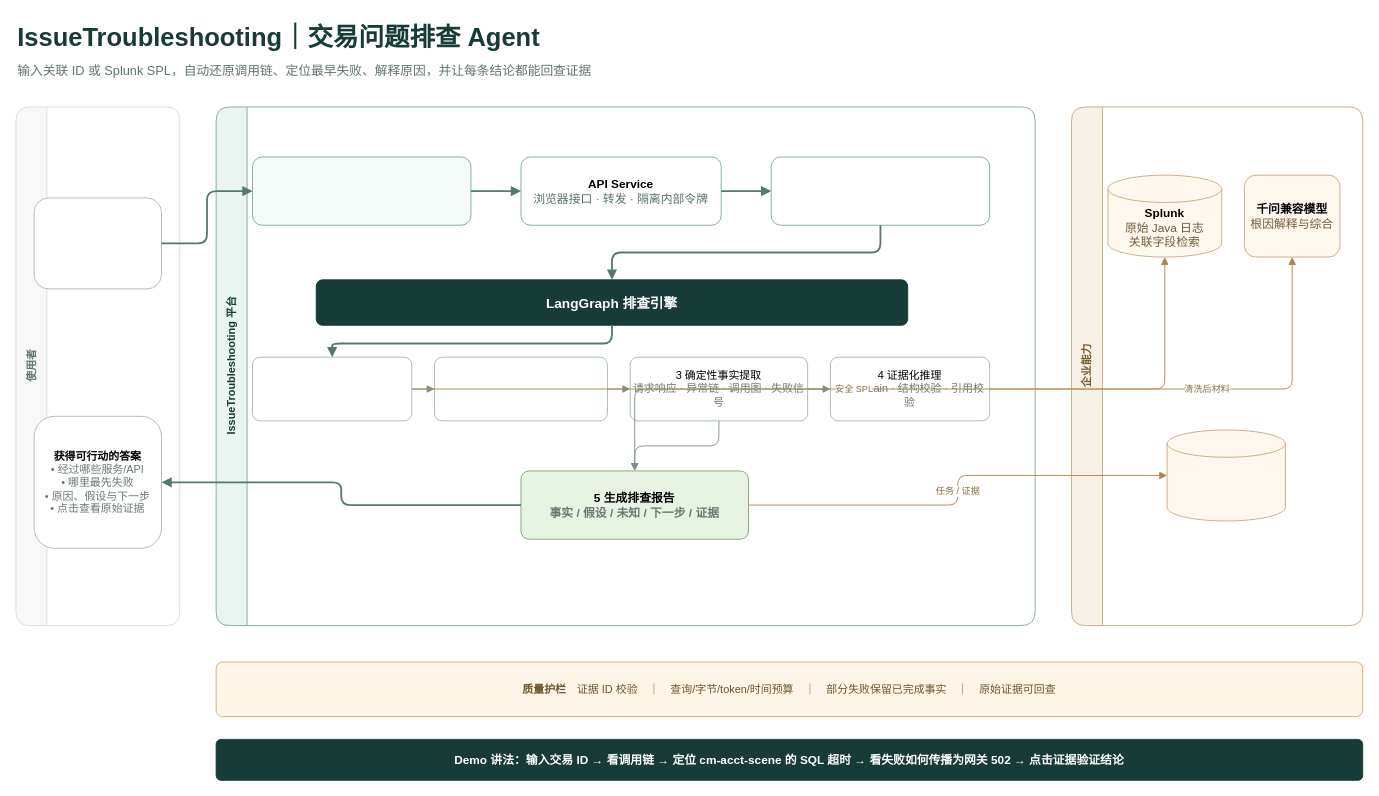
The diagram is 1379 pixels wide and 796 high, and some of its shapes have lost their labels. The centre of each missing label's shape, as x and y in pixels:
"1 查询并采集 按关联 ID / 上下文补查" goes at point (332, 388).
"2 日志标准化 Java 日志 / 嵌套 JSON / 字段统一" goes at point (520, 388).
"Agent Service 任务队列 · 取消 · 超时 · 生命周期" goes at point (880, 190).
"PostgreSQL 任务 · 报告 JSONB 原始证据" goes at point (1225, 475).
"极简对话式工作台 交易 ID · 时间范围 · 环境 · 流程" goes at point (361, 190).
"运维 / 开发 / 业务支持 提供 seqNo、correlationId 或 SPL 可补充重点排查问题" goes at point (97, 243).
